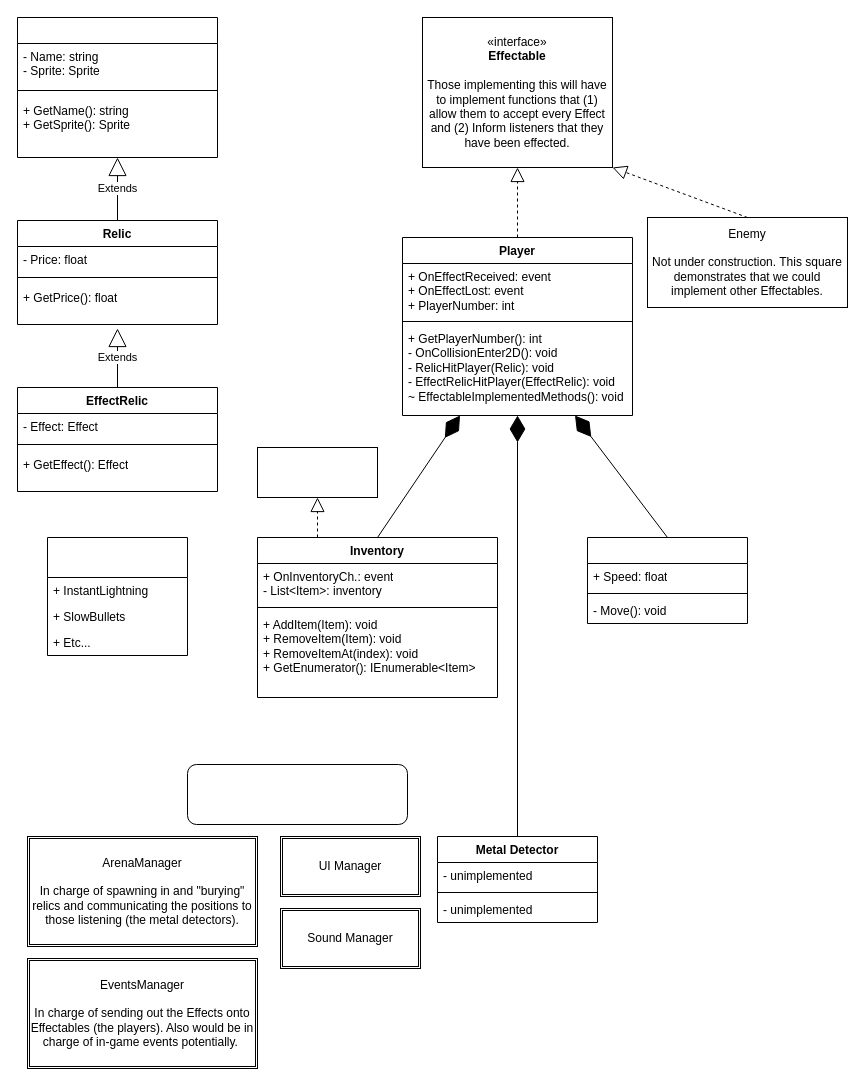
The diagram is 865 pixels wide and 1086 high, and some of its shapes have lost their labels. The box of each missing label's shape, as (x1, y1, x2, y2) in pixels:
<<enum>> Effect: (46, 536, 188, 656)
Construction Zone: (186, 764, 408, 824)
IEnumerable<Item>: (256, 446, 378, 498)
InputMovement: (586, 536, 748, 624)
Item: (16, 16, 218, 158)
